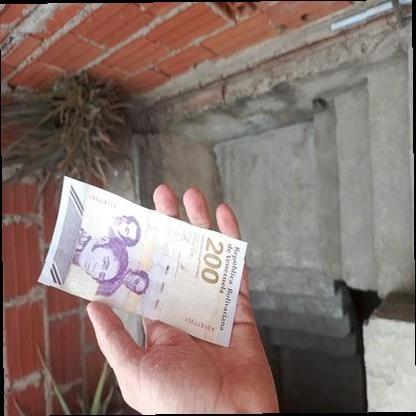two_hundred-front-vef: (37, 174, 248, 347)
